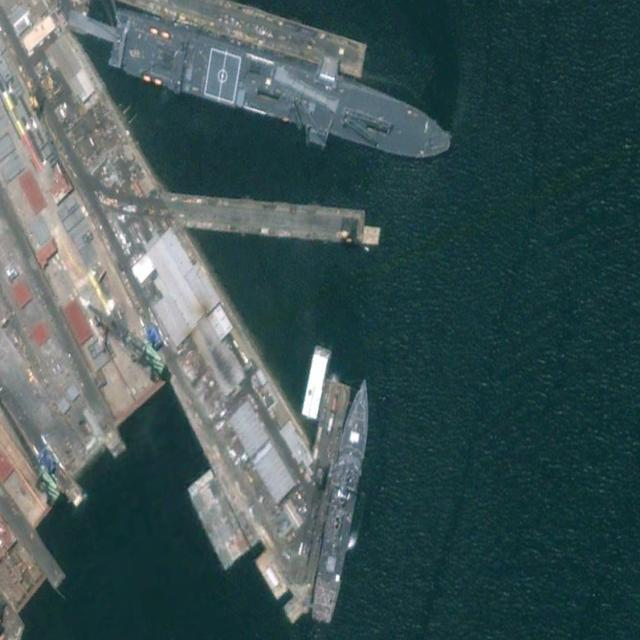Cargo: (107, 8, 458, 170)
Destroyer: (311, 374, 376, 625)
